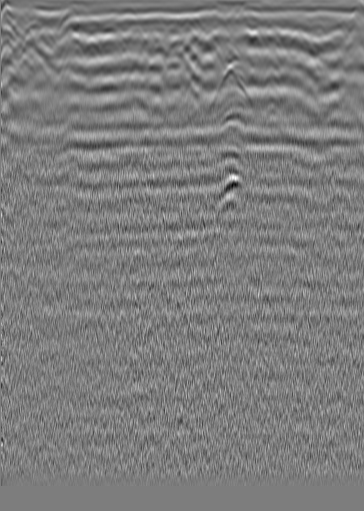가스: (211, 169, 249, 205)
상수: (314, 28, 334, 48)
오수: (25, 19, 45, 39)
우수: (164, 21, 184, 41)
